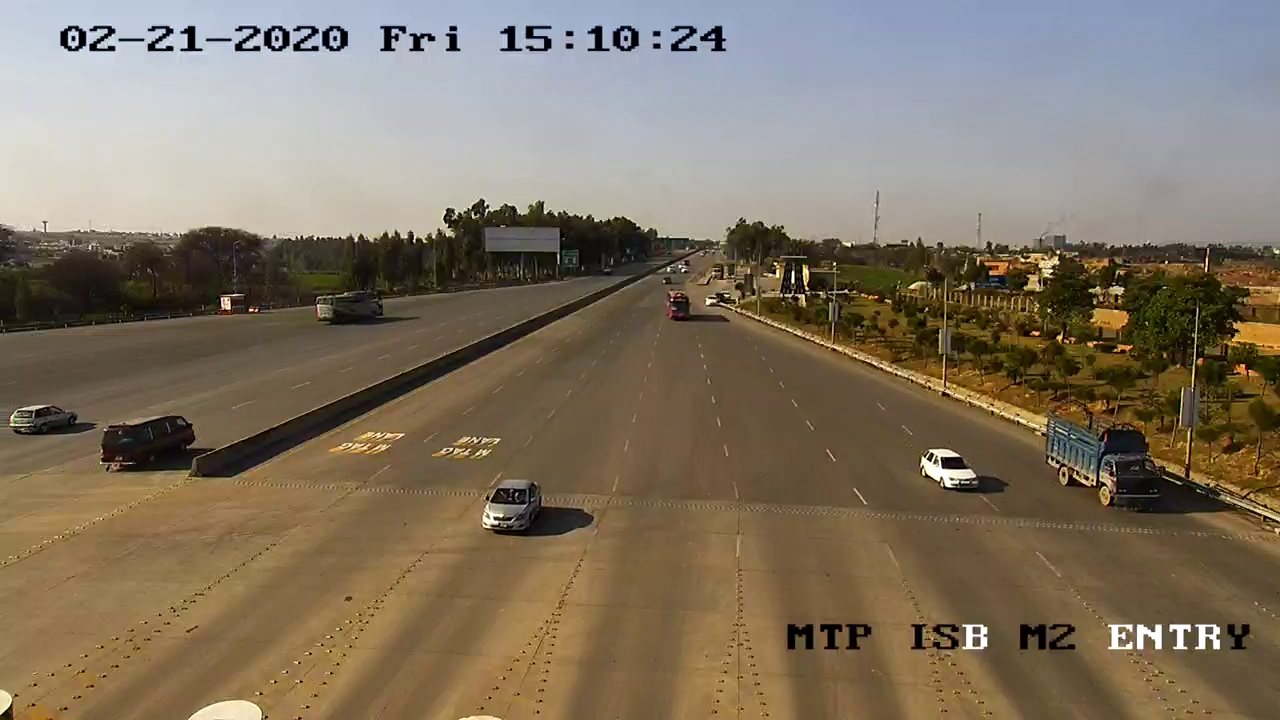f1: (469, 472, 549, 538), (917, 439, 985, 499)
f5: (1040, 398, 1176, 514)
